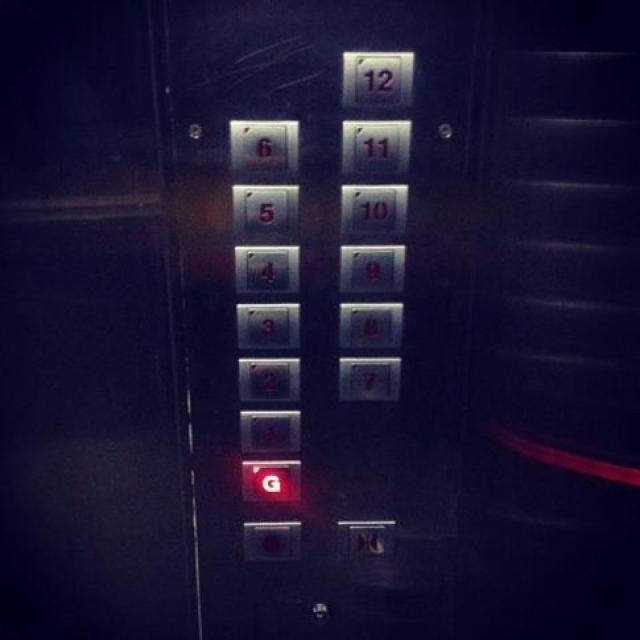1: (239, 408, 298, 457)
10: (339, 179, 408, 237)
11: (339, 115, 411, 173)
12: (340, 50, 413, 110)
2: (236, 356, 300, 407)
3: (232, 298, 298, 354)
4: (231, 244, 298, 297)
5: (230, 184, 300, 232)
6: (228, 119, 298, 176)
7: (336, 353, 400, 403)
8: (337, 300, 402, 353)
9: (341, 245, 405, 298)
G: (239, 458, 301, 502)
blur: (238, 517, 302, 564)
close: (331, 516, 395, 567)
